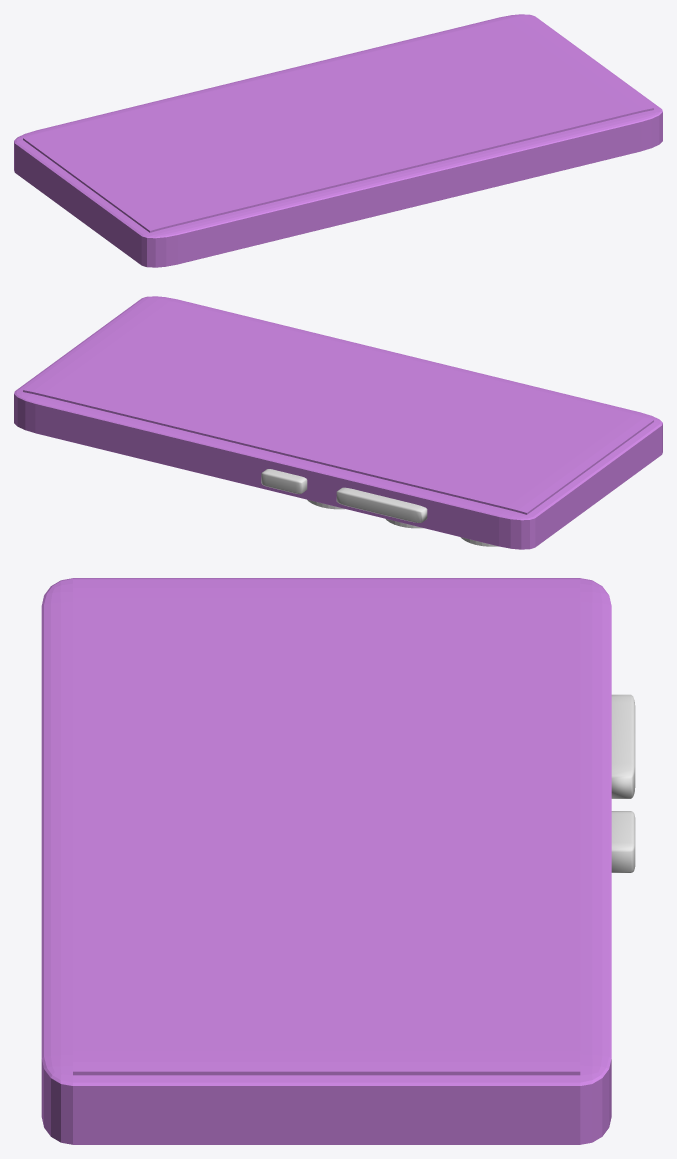
The model's file is phonemodel.fbx.
3 views of the same model, one above another, from view 1: azimuth 30°, elevation 25°; view 2: azimuth 150°, elevation 25°; view 3: azimuth 270°, elevation 25° (orthographic). The views are drawn at different scales.
Visible parts, largest first — view 1: Cube; view 2: Cube, Cube.002, Cube.003; view 3: Cube, Cube.002, Cube.003.
Part boxes in pixels (<box>): Cube: <box>14,14,662,267</box>; Cube: <box>14,296,662,549</box>; Cube.002: <box>336,487,427,522</box>; Cube.003: <box>261,469,307,493</box>; Cube: <box>41,578,611,1144</box>; Cube.002: <box>611,694,635,798</box>; Cube.003: <box>611,811,635,872</box>.
Size of the model in its own units: 451 by 41.13 by 223.
